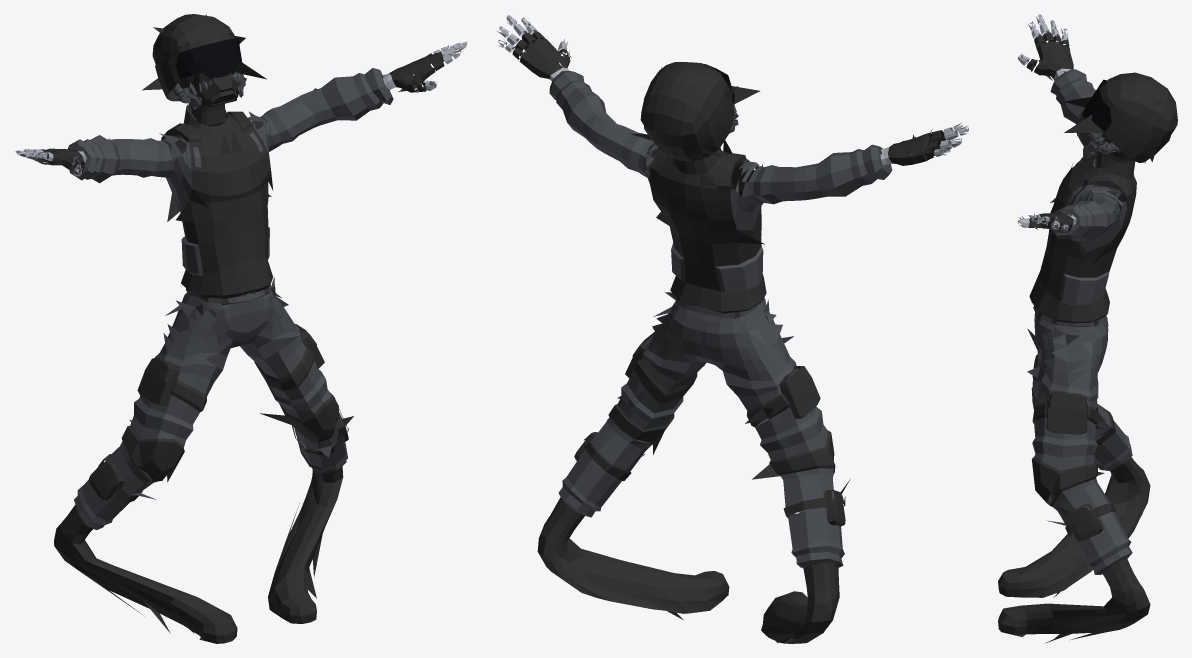
Rendered from frozen-13.glb.
3 renders of one model, left to right at view 1: azimuth 30°, elevation 25°; view 2: azimuth 150°, elevation 25°; view 3: azimuth 270°, elevation 25°, orthographic. The views are drawn at different scales.
Parts seen in each view (by area): view 1: near, far; view 2: near, far; view 3: near, far.
Part boxes in pixels (bbox=[...]): near: bbox=[15, 14, 466, 643]; far: bbox=[74, 14, 369, 642]; near: bbox=[497, 15, 968, 643]; far: bbox=[562, 62, 861, 642]; near: bbox=[998, 14, 1177, 634]; far: bbox=[1005, 72, 1174, 643].
Size of the model in its own units: 1.5 by 1.86 by 0.5582.
1 material, 1 textured.
